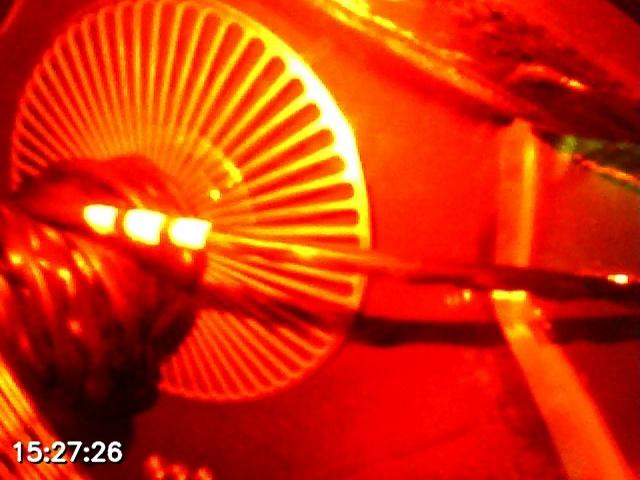white-dots: (83, 204, 212, 251)
